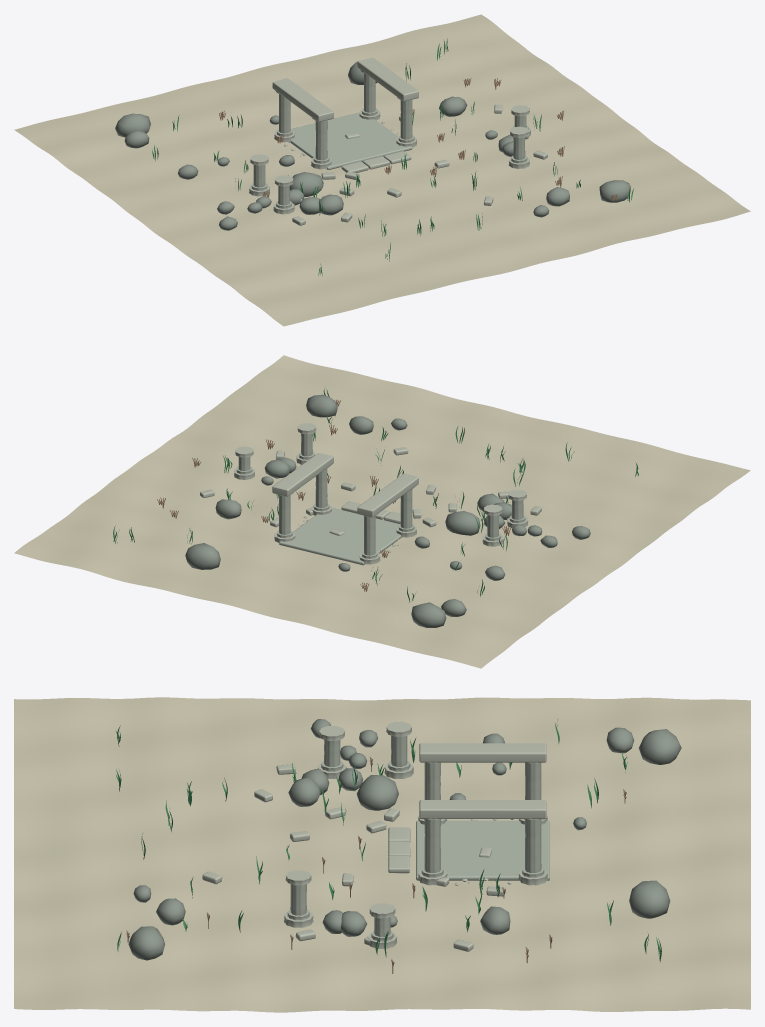
The model's file is underwater-ruins.glb.
The picture shows the model from 3 angles, top to bottom: view 1: azimuth 30°, elevation 25°; view 2: azimuth 150°, elevation 25°; view 3: azimuth 270°, elevation 25°; orthographic projection. The views are drawn at different scales.
Parts seen in each view (by area): view 1: Sculpted sand waves, Sanctuary stairs, Broken architrave.001, Broken architrave, Weathered porous boulder.007, Weathered porous boulder.021, Weathered porous boulder.003; view 2: Sculpted sand waves, Sanctuary stairs, Broken architrave, Broken architrave.001, Weathered porous boulder.012, Weathered porous boulder.007, Weathered porous boulder.021, Weathered porous boulder.003; view 3: Sculpted sand waves, Sanctuary stairs, Broken architrave, Broken architrave.001, Weathered porous boulder.012, Weathered porous boulder.021, Weathered porous boulder.007, Weathered porous boulder.003, Eroded fluted stone drum.014, Eroded fluted stone drum.006, Weathered porous boulder.019, Weathered porous boulder.001 (+5 smaller).
Boxes of the visible parts, x1,y1,x2,y2 form: Sculpted sand waves: (14, 14, 750, 326); Sanctuary stairs: (290, 112, 412, 169); Broken architrave.001: (357, 57, 418, 101); Broken architrave: (272, 78, 333, 122); Weathered porous boulder.007: (115, 113, 150, 137); Weathered porous boulder.021: (289, 172, 323, 196); Weathered porous boulder.003: (599, 180, 630, 202); Sculpted sand waves: (14, 355, 750, 668); Sanctuary stairs: (279, 507, 401, 565); Broken architrave: (357, 473, 418, 517); Broken architrave.001: (272, 453, 333, 496); Weathered porous boulder.012: (185, 543, 220, 569); Weathered porous boulder.007: (411, 602, 446, 627); Weathered porous boulder.021: (445, 511, 480, 535); Weathered porous boulder.003: (306, 394, 337, 417); Sculpted sand waves: (14, 697, 750, 1012); Sanctuary stairs: (416, 820, 549, 880); Broken architrave: (419, 743, 546, 762); Broken architrave.001: (419, 800, 546, 819); Weathered porous boulder.012: (629, 880, 670, 918); Weathered porous boulder.021: (356, 775, 398, 810); Weathered porous boulder.007: (639, 729, 681, 764); Weathered porous boulder.003: (128, 926, 164, 960); Eroded fluted stone drum.014: (525, 819, 541, 873); Eroded fluted stone drum.006: (424, 819, 440, 872); Weathered porous boulder.019: (288, 777, 320, 806); Weathered porous boulder.001: (480, 906, 510, 934).
Size of the model in its own units: 44 by 5.75 by 44.
